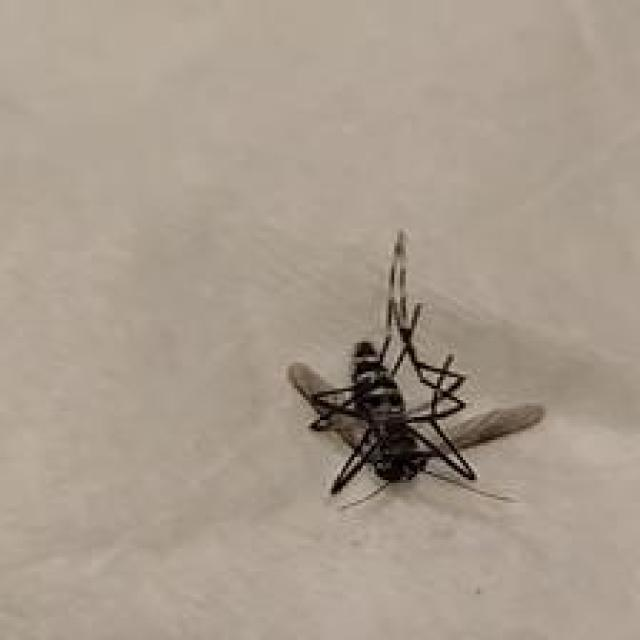Aedes albopictus: (286, 227, 546, 513)
